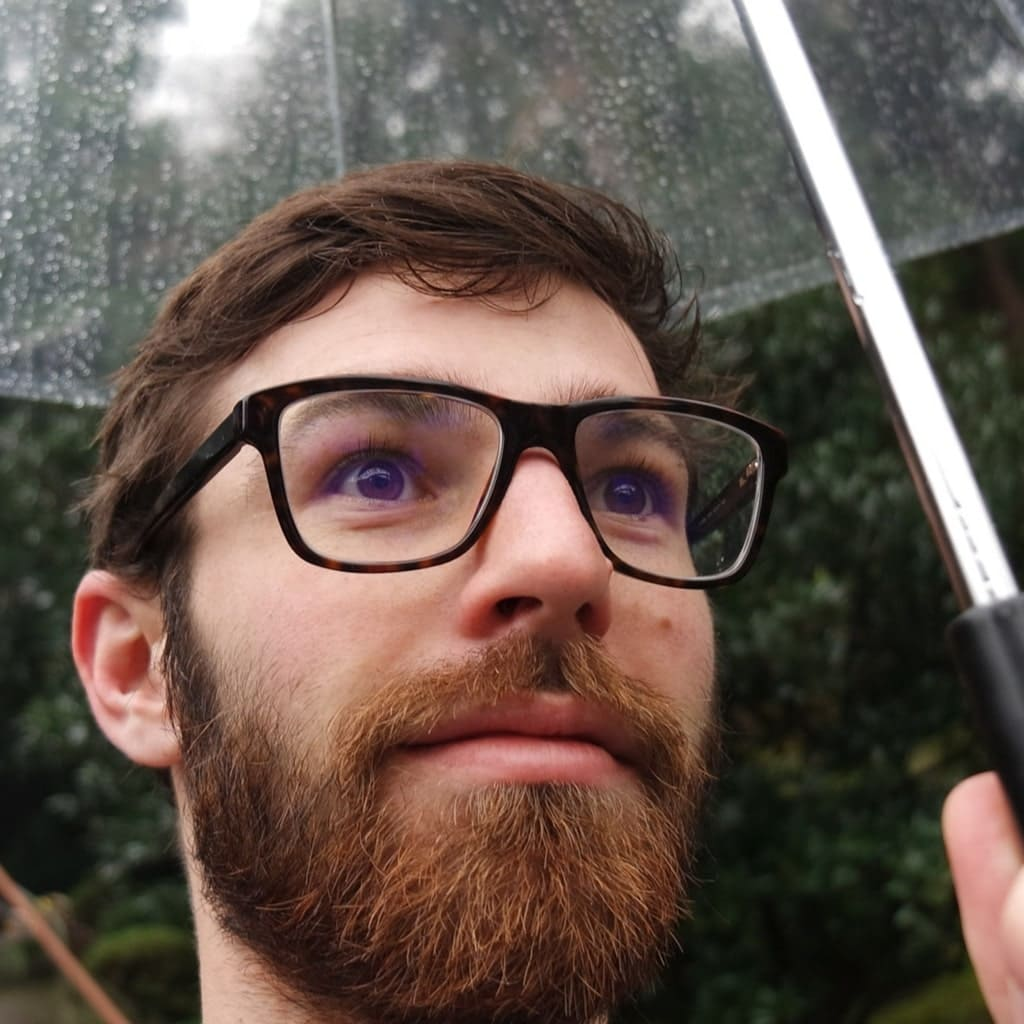without_mask: (237, 323, 719, 920)
